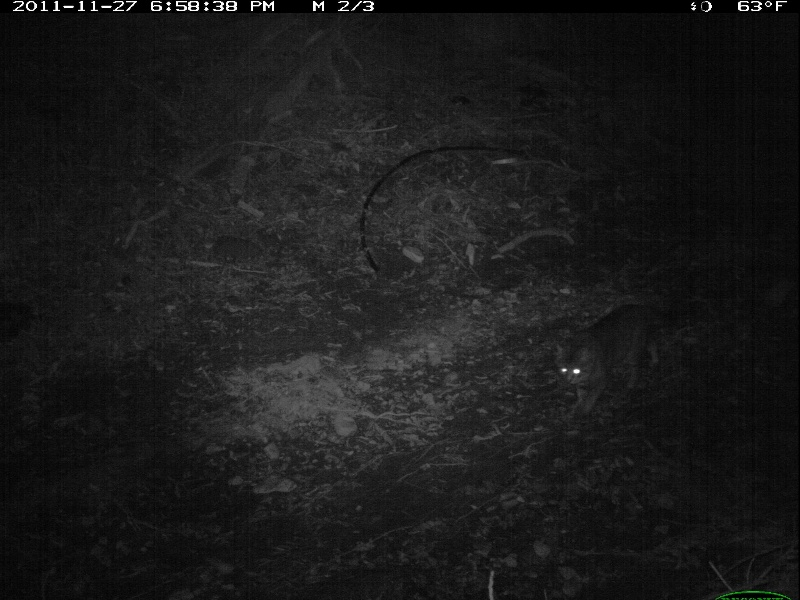cat: (556, 298, 662, 419)
